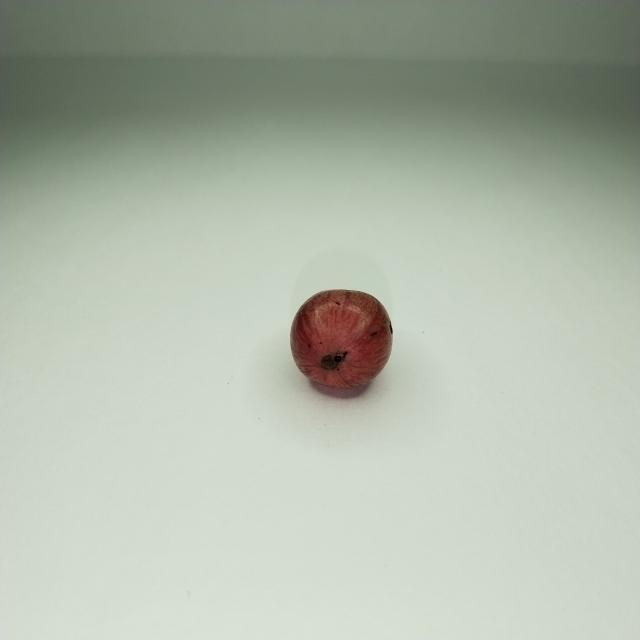Infectado: (290, 292, 396, 400)
